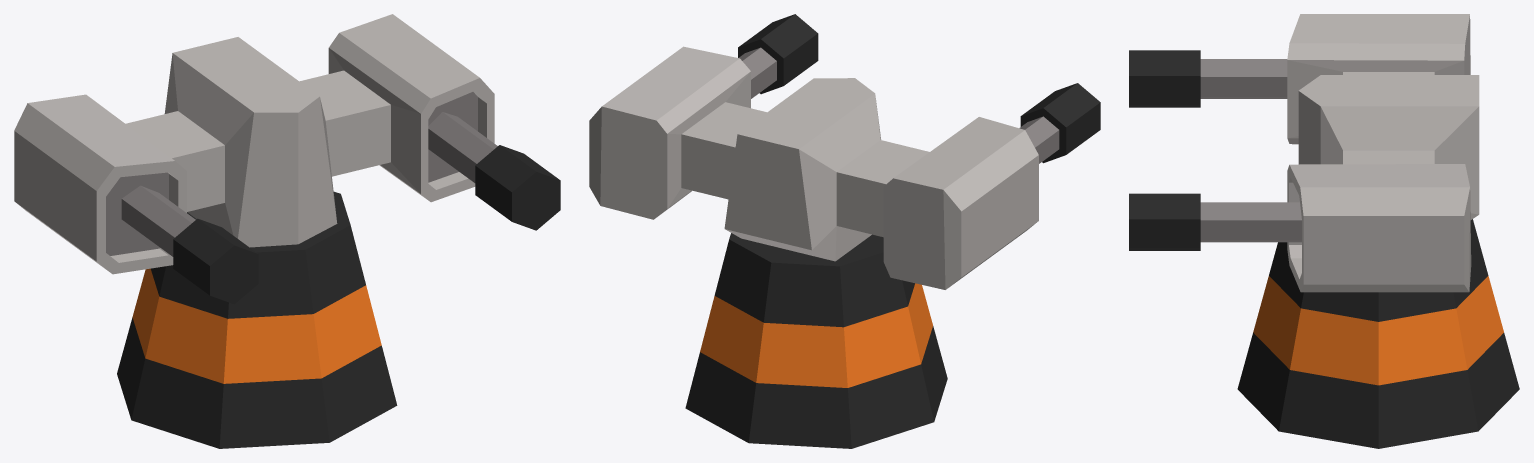
File: scifi_scifi-turret-head-artillery-small.fbx
3 renders of one model, left to right at view 1: azimuth 30°, elevation 25°; view 2: azimuth 150°, elevation 25°; view 3: azimuth 270°, elevation 25°, orthographic. The views are drawn at different scales.
Parts seen in each view (by area): view 1: scifi_scifi_turret_head_artillery_small; view 2: scifi_scifi_turret_head_artillery_small; view 3: scifi_scifi_turret_head_artillery_small.
Part boxes in pixels (x1=…): scifi_scifi_turret_head_artillery_small: x1=14, y1=14, x2=560, y2=448; scifi_scifi_turret_head_artillery_small: x1=589, y1=14, x2=1100, y2=448; scifi_scifi_turret_head_artillery_small: x1=1129, y1=14, x2=1519, y2=448.
Bounding box in the file's own units: 173 × 127 × 151.
